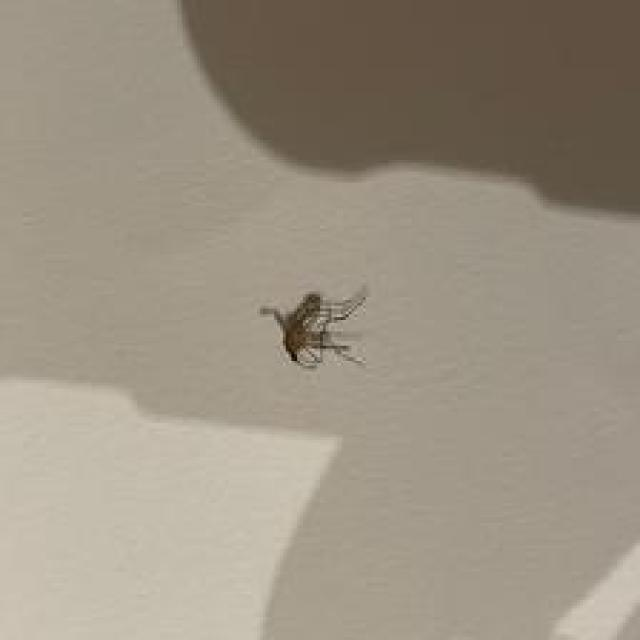Culex: (259, 284, 370, 370)
